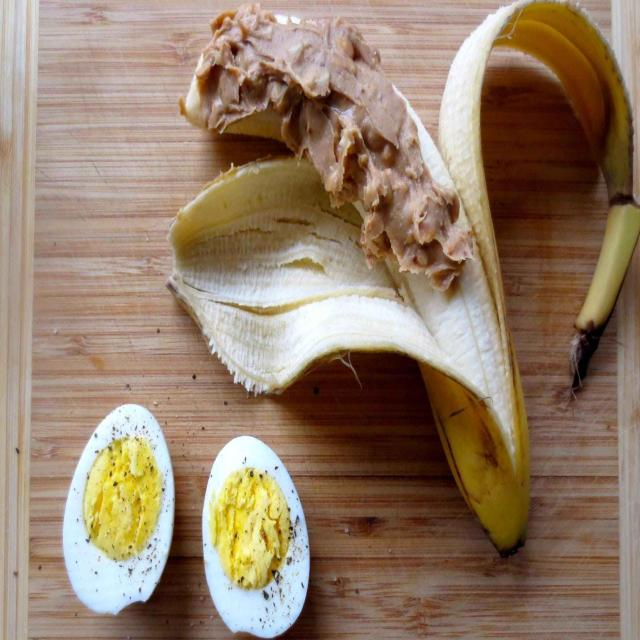huevos: (192, 424, 330, 636), (53, 401, 178, 625)
